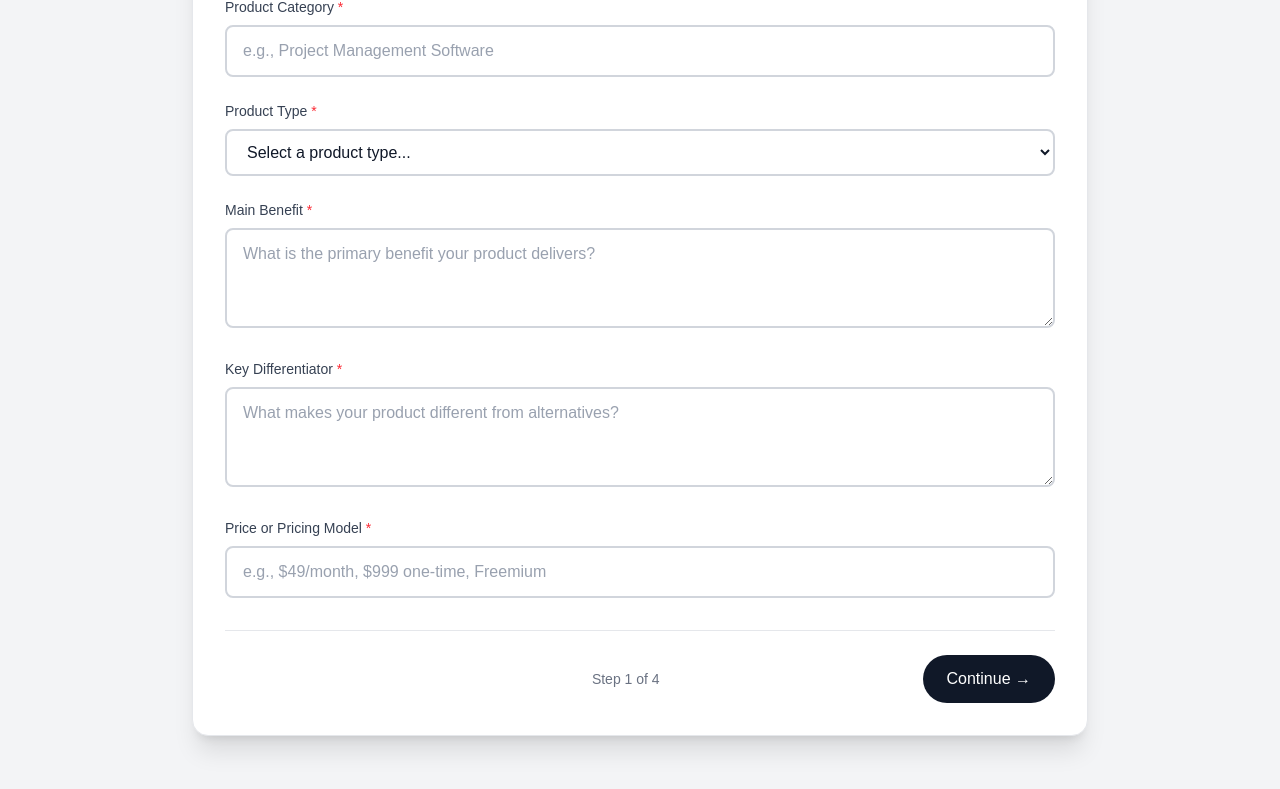
Test: Preservation Properties - Required Field Validation and Successful Submissions › Property 1: Validation blocks navigation when required fields are empty
The image size is (1280, 789).
(page scrolled)
Try to navigate without filling any fields
Click the button "Continue →".
click(989, 679)  # box [922,655,1055,703]
(page scrolled)
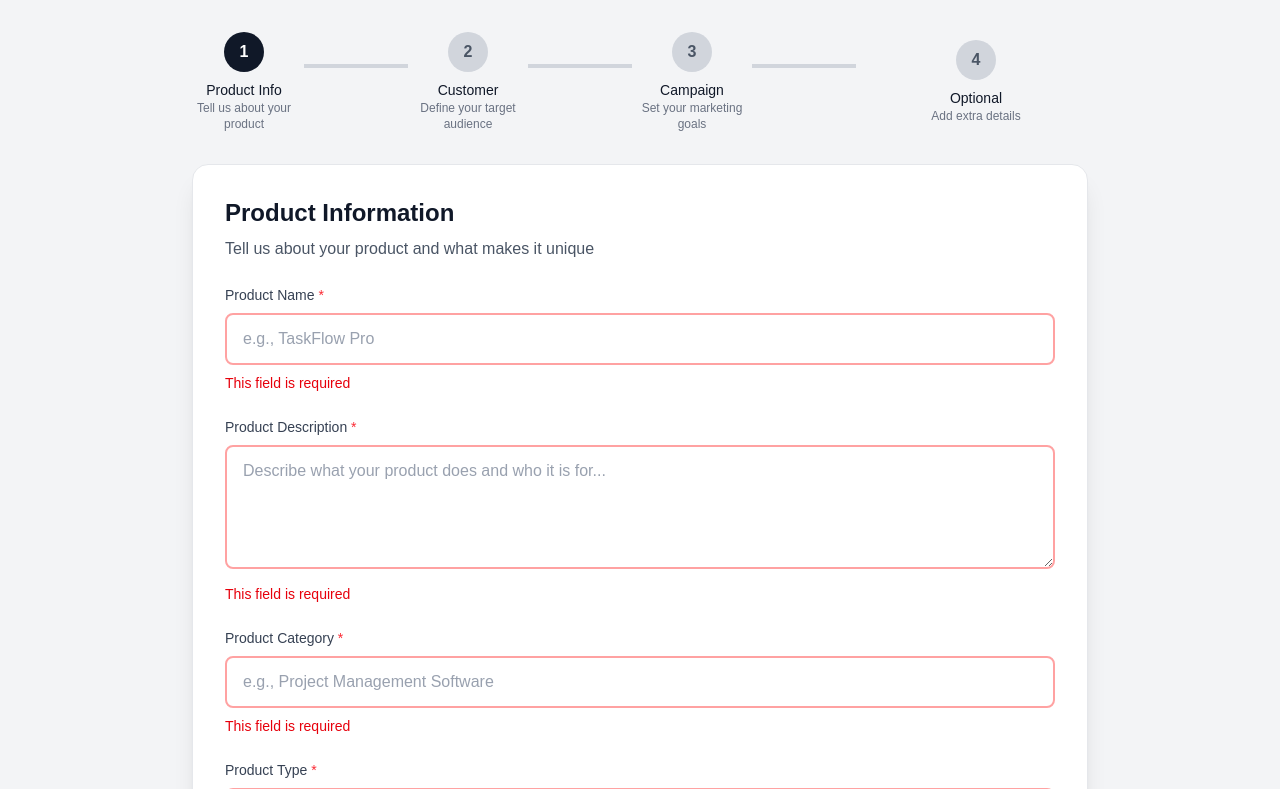
Result: the text "This field is required" below "Product Name" is shown at [225,375,350,391]
